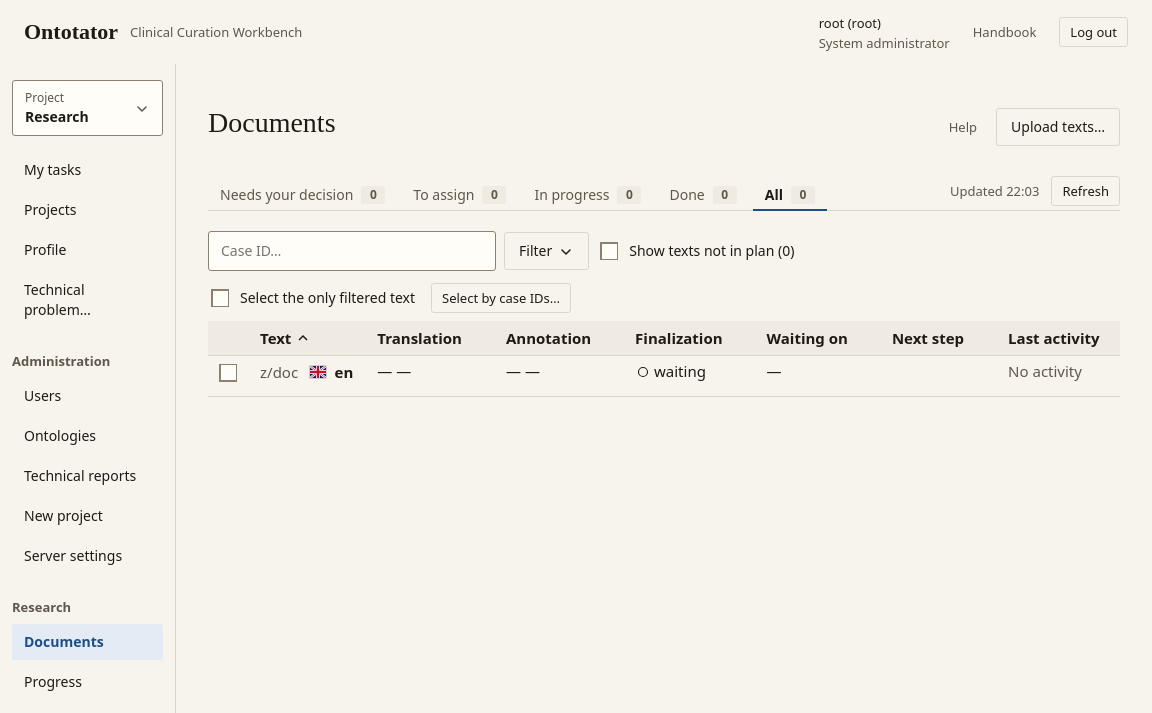
Test: wires the system administrator exception only after the current project is known
Click the button "Upload texts…": click(1058, 127) [996,108,1120,146]
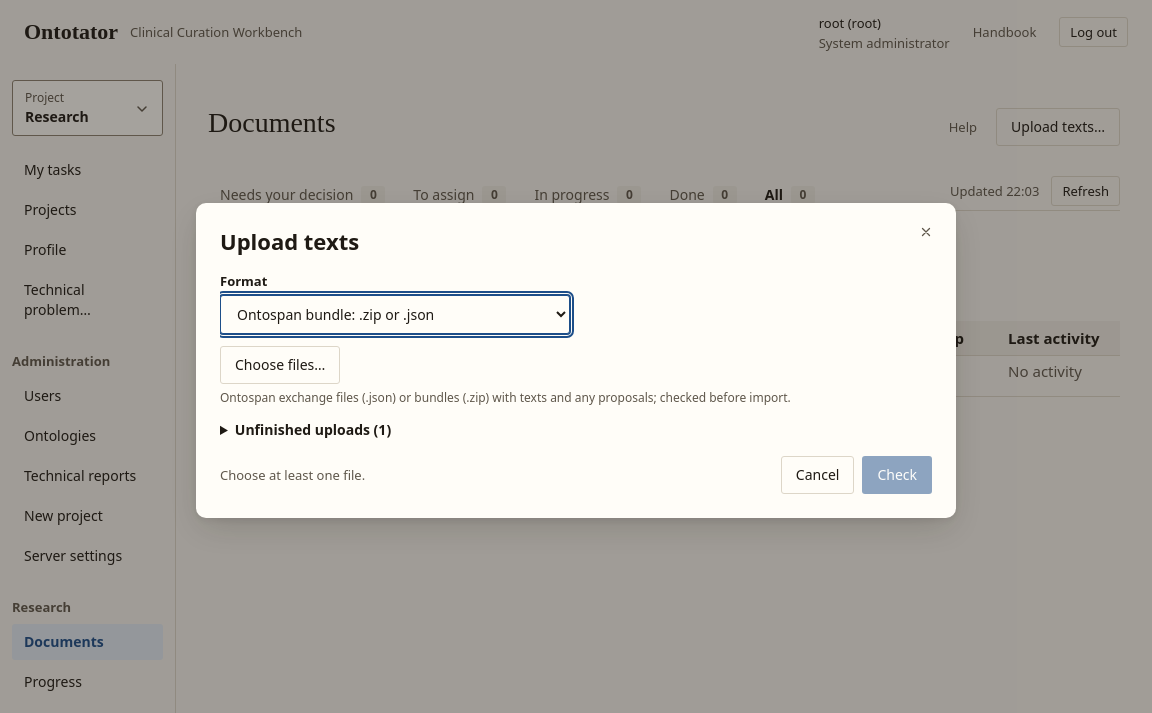
Click the heading "Unfinished uploads (1)": click(306, 430) [220,420,391,440]
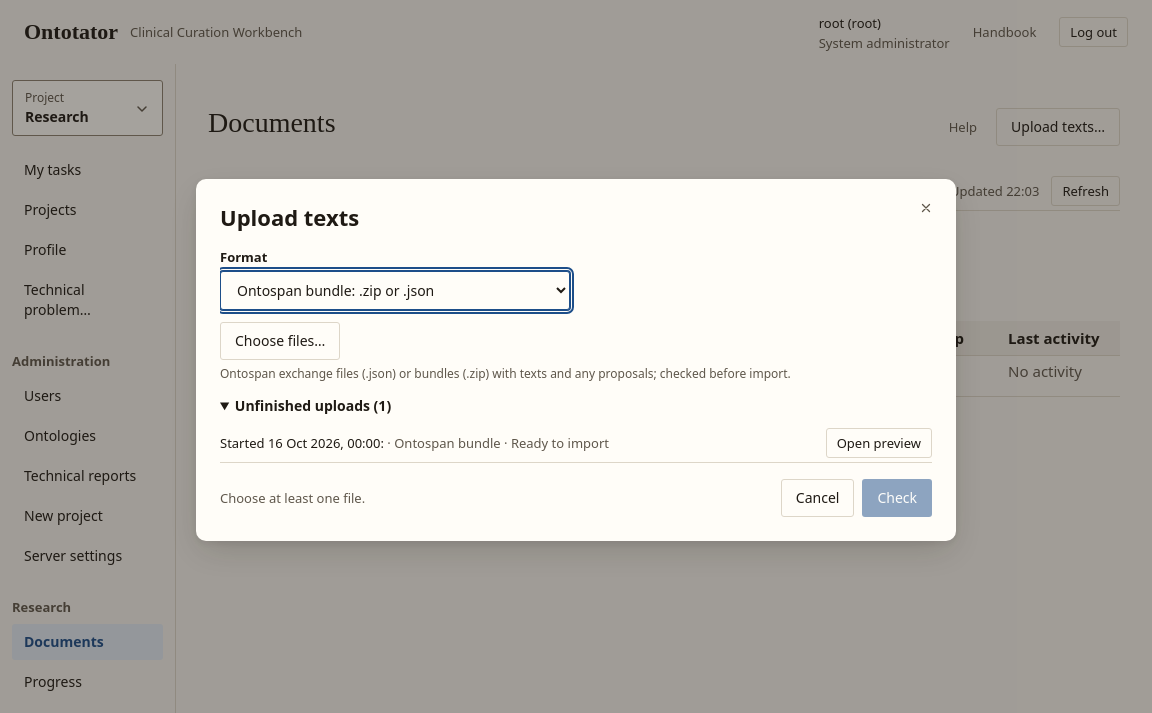
Click the button "Open preview": click(879, 443) [826,428,932,458]
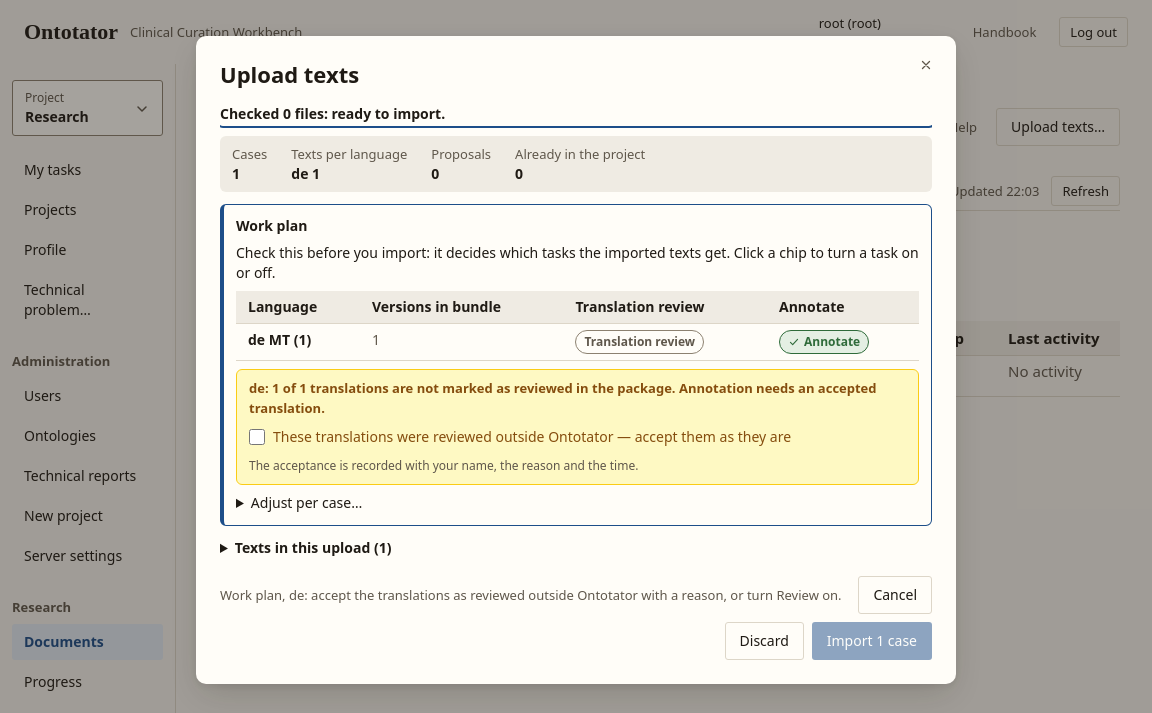
Check: the element "Work plan" is shown, box [220,204,932,526]
Check: the checkbox labelled "reviewed outside Ontotator" is shown, box [249,429,265,445]
